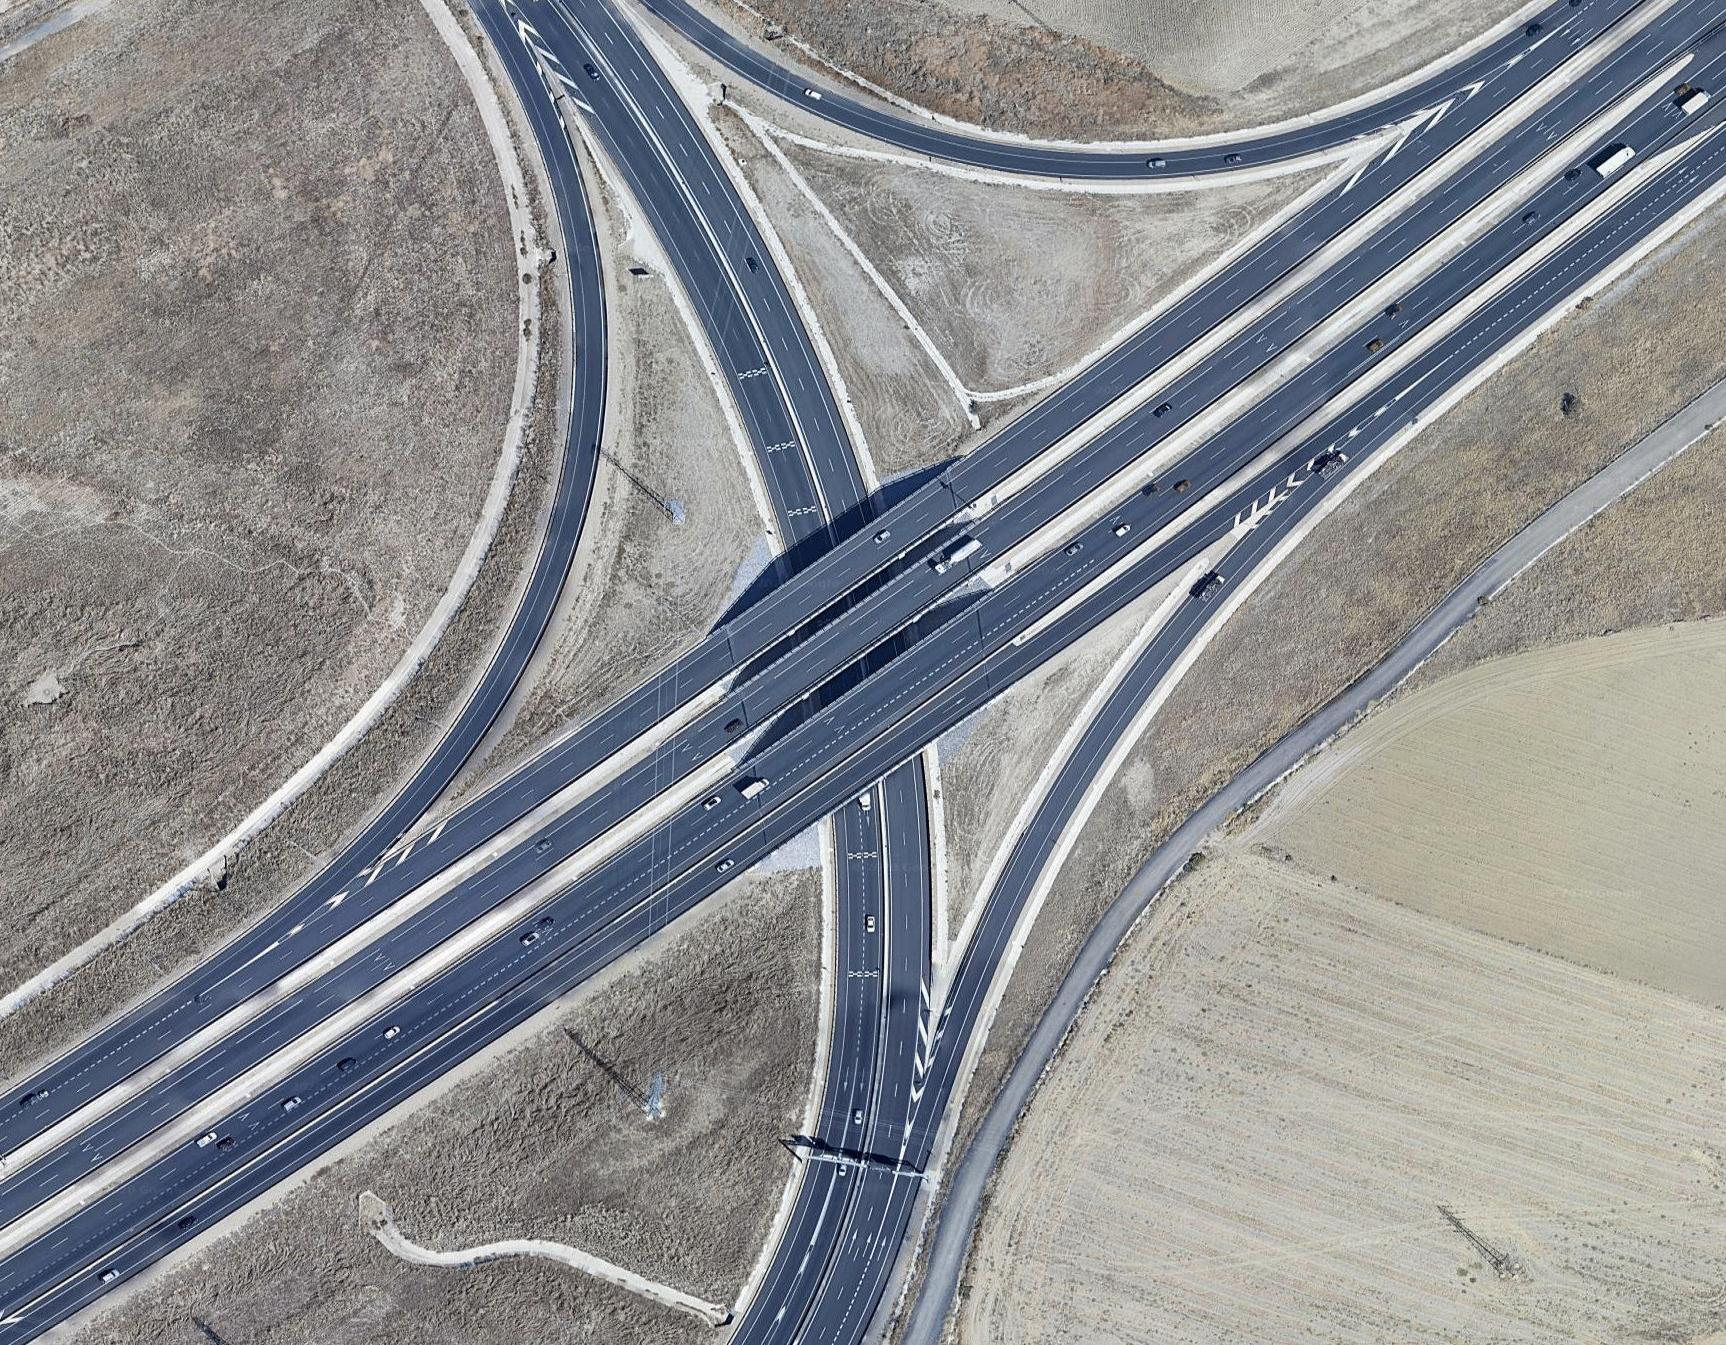bridge: (716, 537, 1028, 829)
large-vehicle: (925, 541, 989, 573)
small-vehicle: (705, 852, 741, 877)
